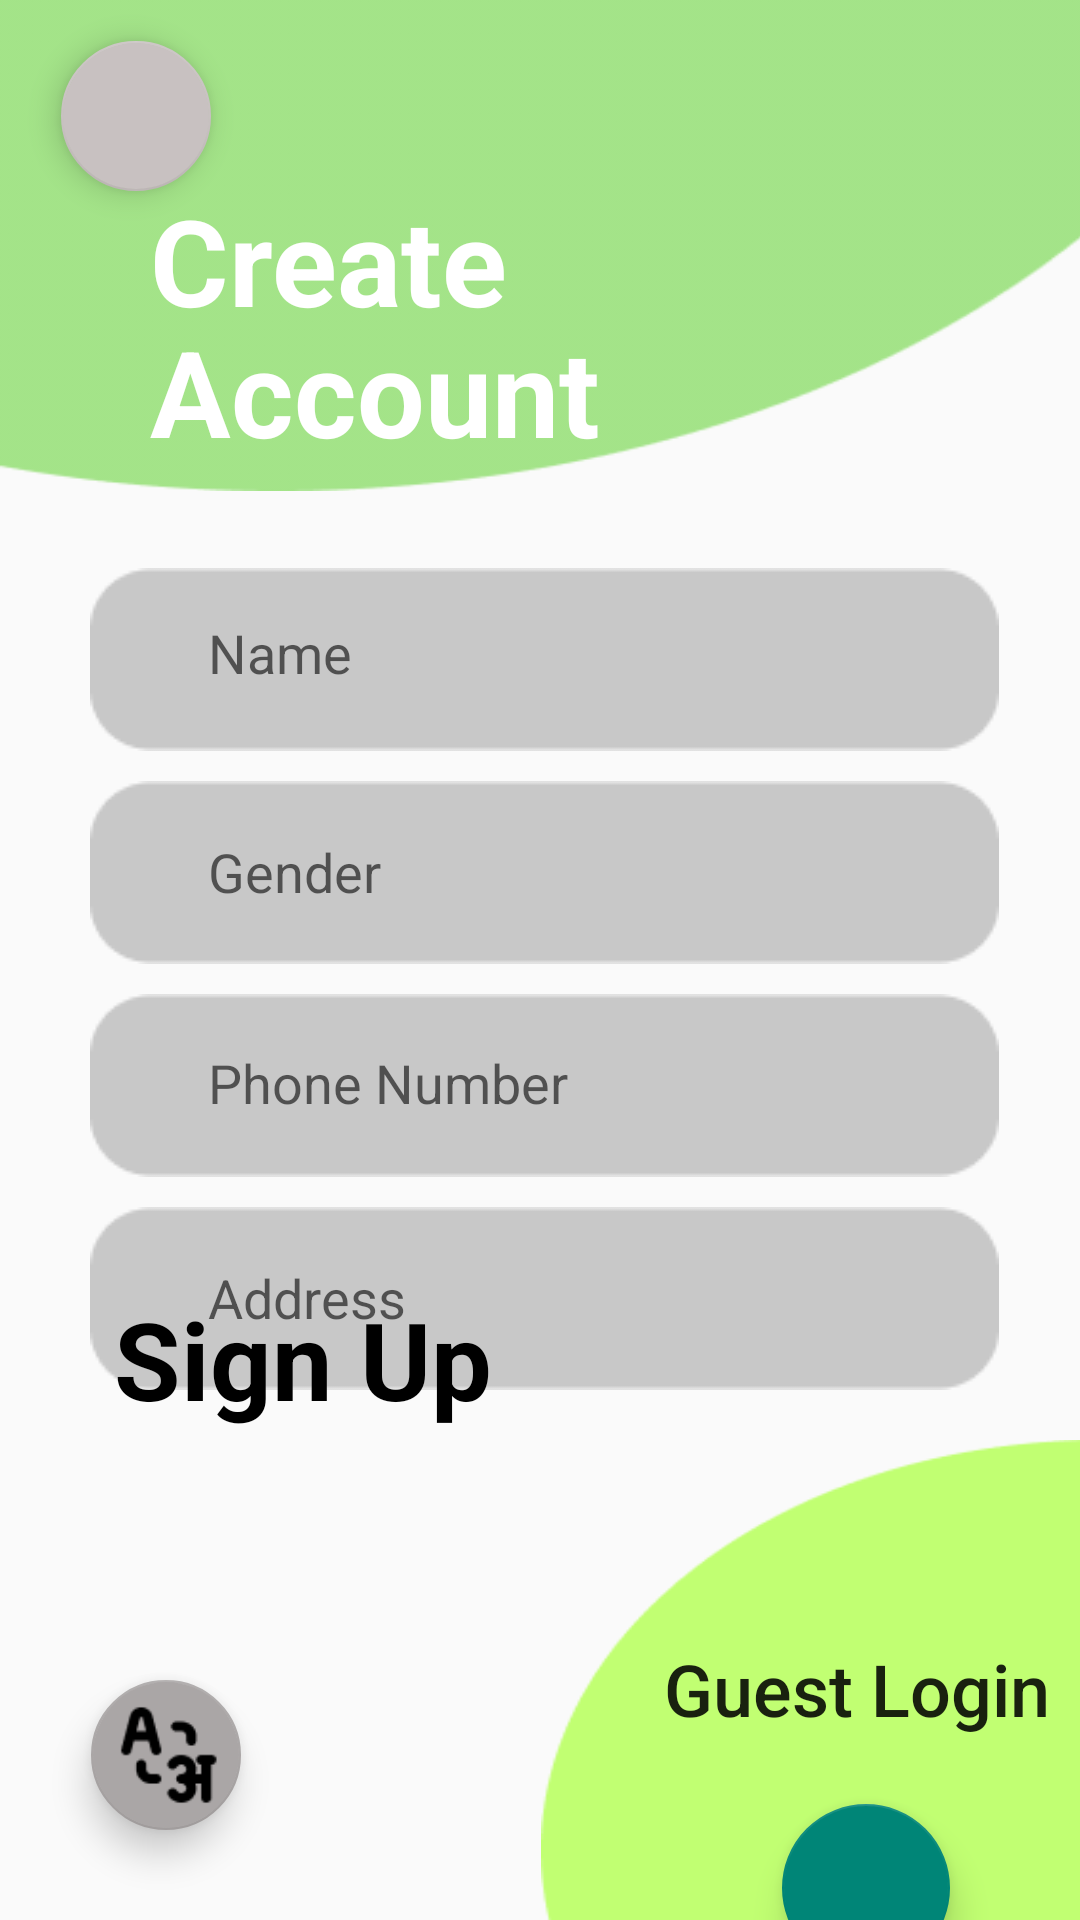

Icon click points for this 1080×1920 phone screenshot, format (x,y):
language translation: (166,1755)
